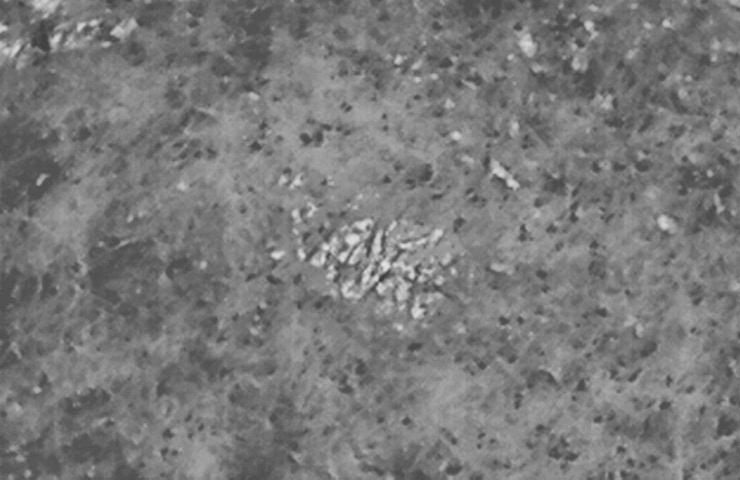landmines: (312, 212, 466, 320)
